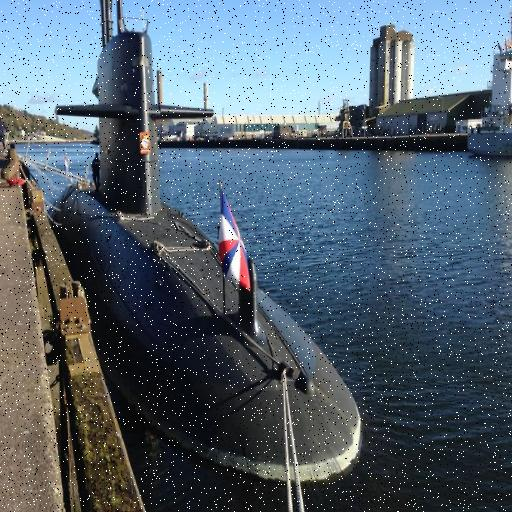submarine: (45, 1, 369, 479)
